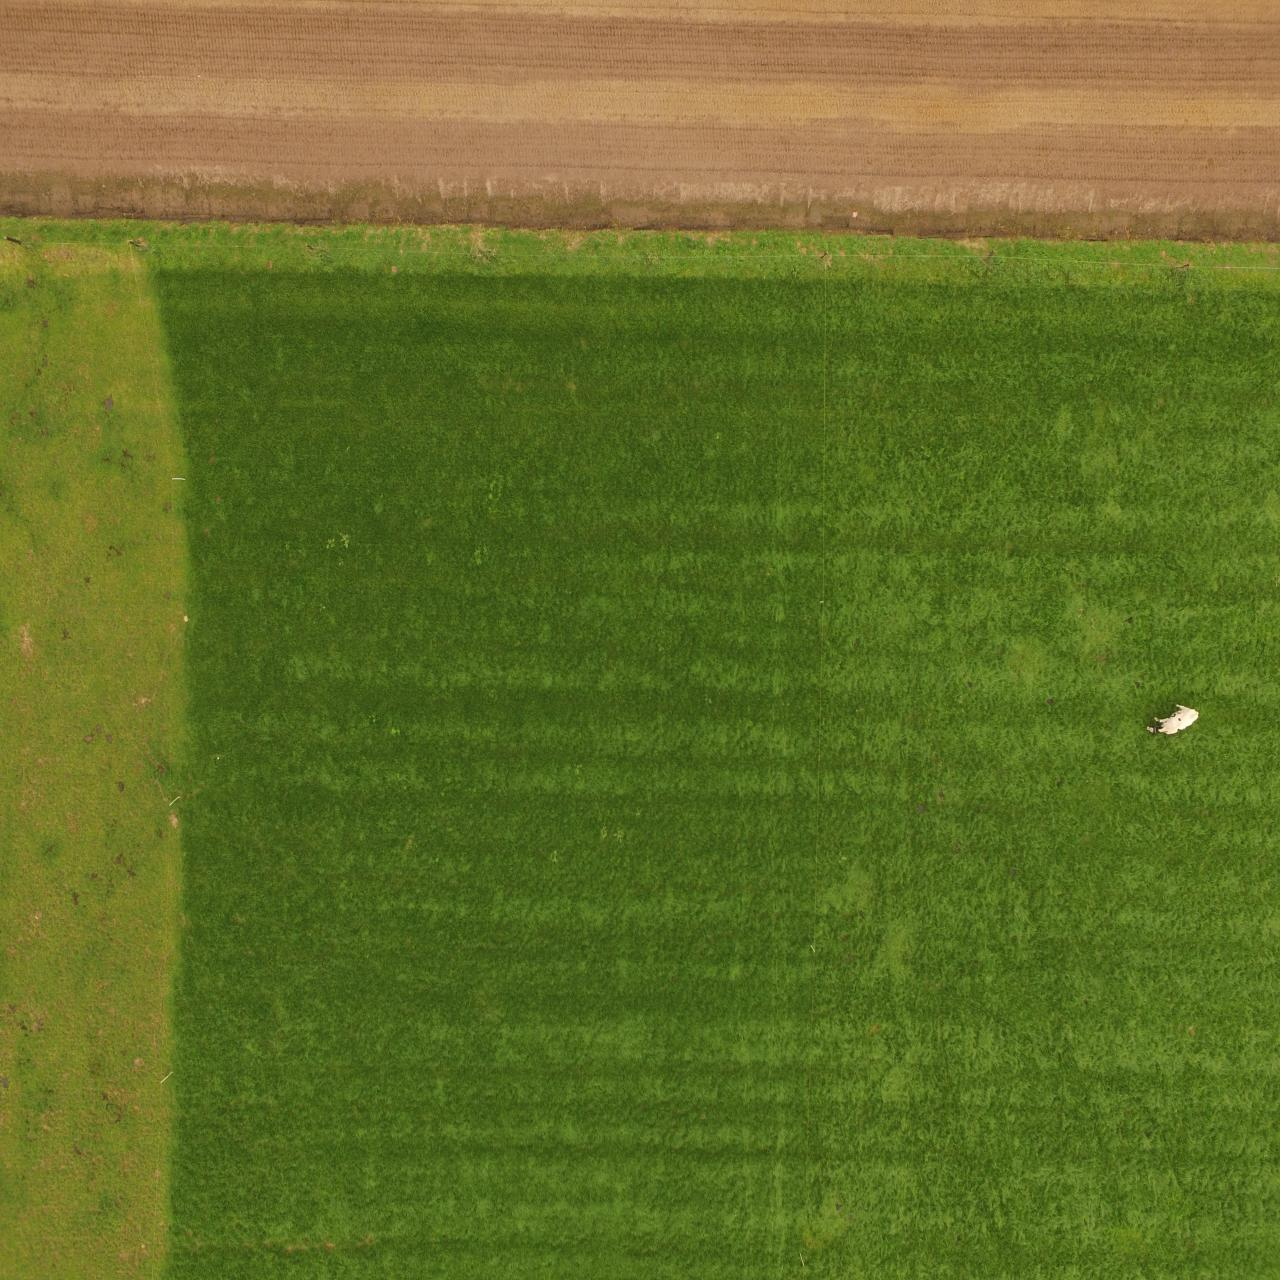cow: (1143, 702, 1200, 735)
